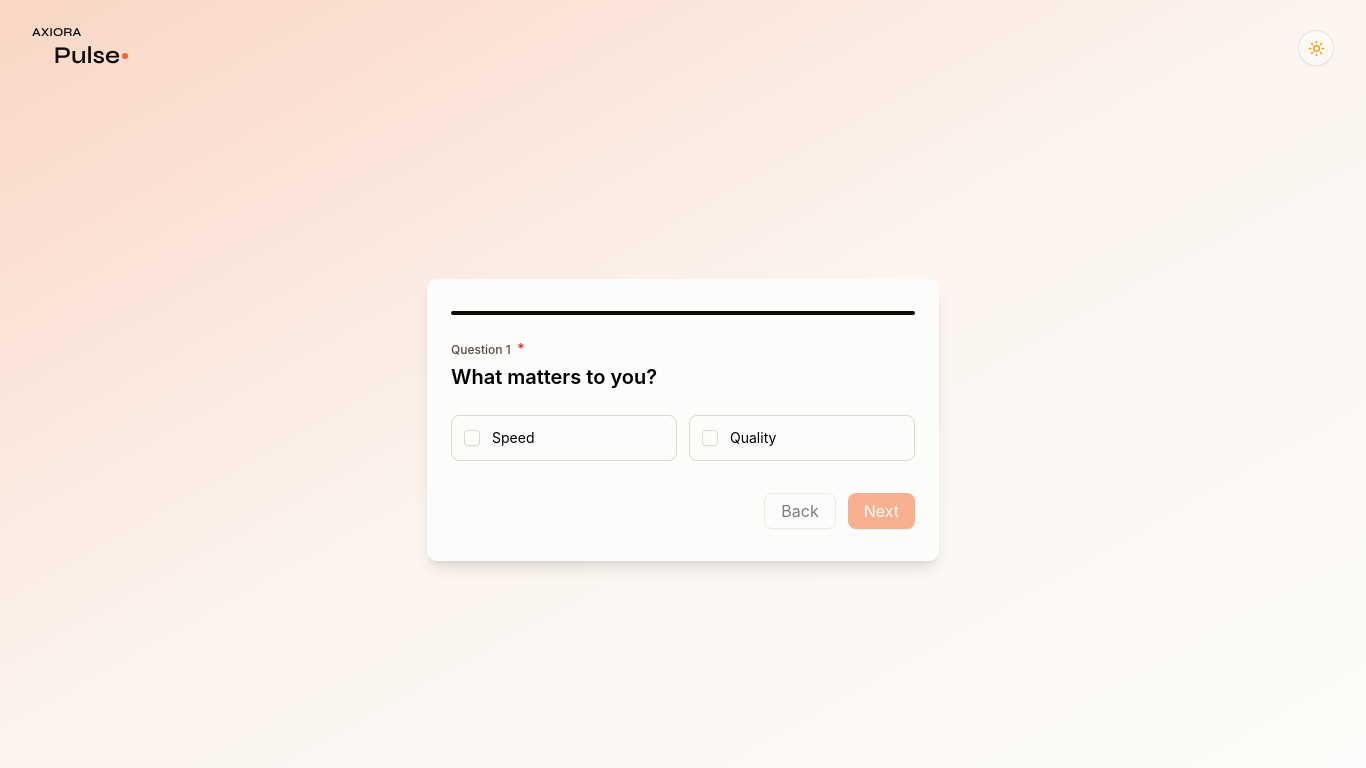
Test case: InteractiveQuestionsFlow › treats a regular checkbox selection as answered
What coordinates should you click on to do the following:
click the checkbox named "Speed" next to "Speed"
I would click on:
 (472, 438)
Its box is [464,430,480,446].
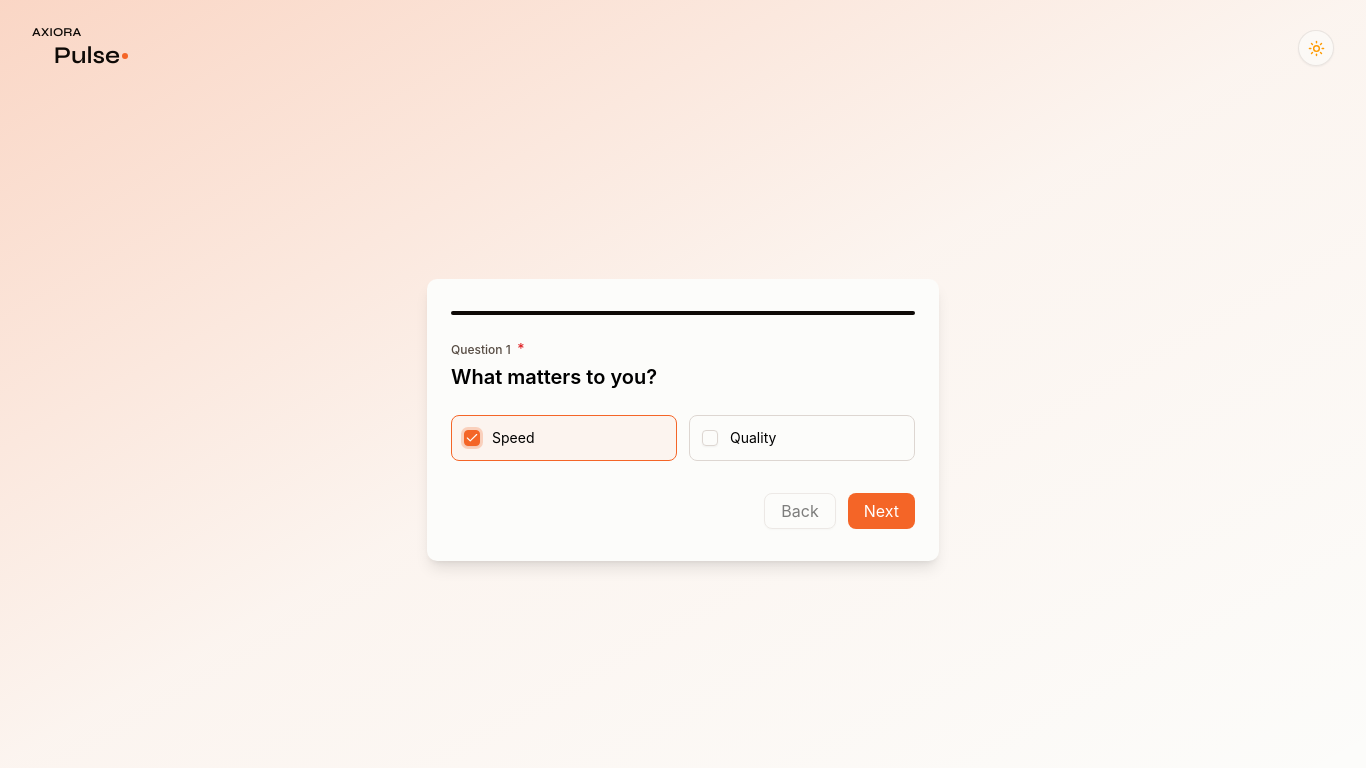
Expected: the button "Next" is enabled, [848,493,915,529]
